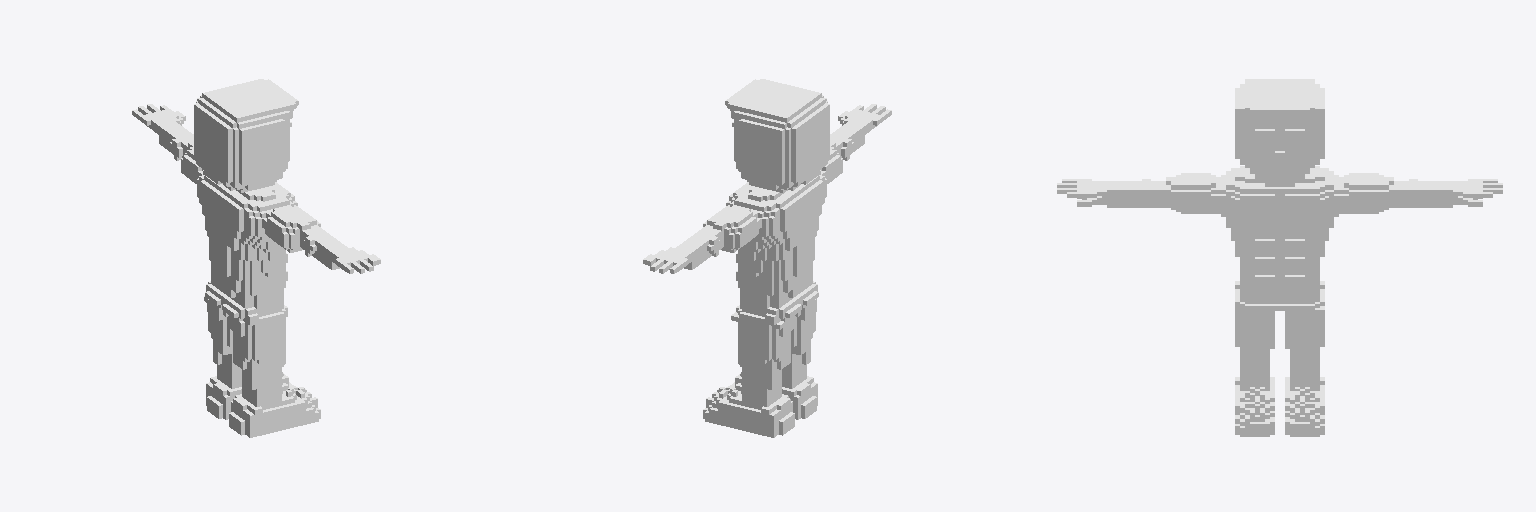
The model's file is blonde_casual_tpose_HD.obj.
The picture shows the model from 3 angles: view 1: azimuth 30°, elevation 25°; view 2: azimuth 150°, elevation 25°; view 3: azimuth 270°, elevation 25°; orthographic projection.
Parts seen in each view (by area): view 1: object 1; view 2: object 1; view 3: object 1.
Boxes of the visible parts, box(x1,y1,x2,y2) form: object 1: box(132, 79, 380, 437); object 1: box(643, 79, 891, 437); object 1: box(1057, 79, 1502, 436).
Size of the model in its own units: 2.1 by 7.1 by 9.